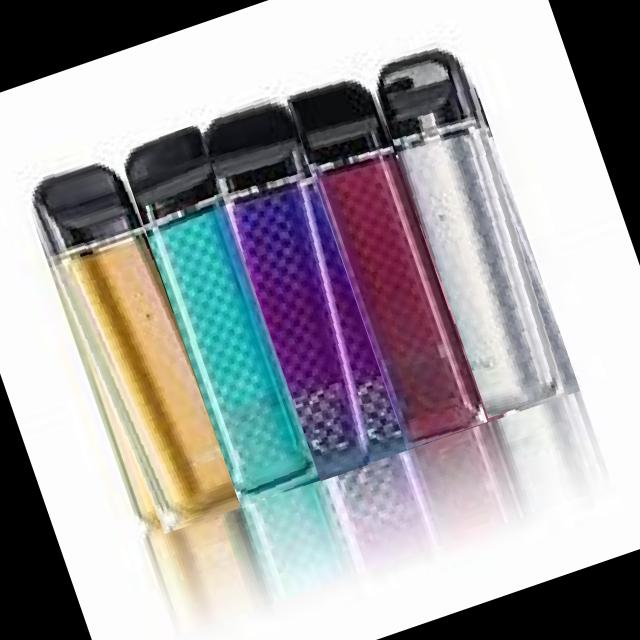Hazard: (16, 28, 580, 542), (363, 25, 580, 418), (19, 147, 238, 536), (195, 88, 408, 480), (280, 54, 487, 449), (118, 123, 322, 508)
